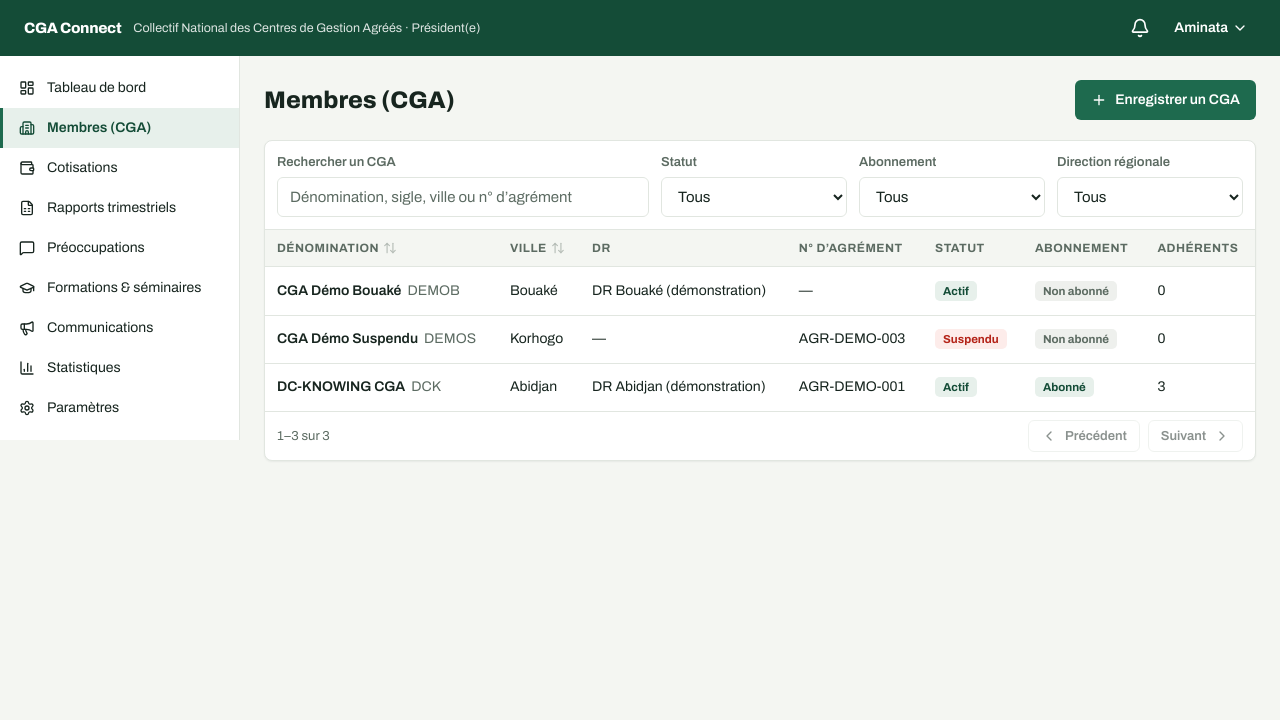
Test: Modale « Nouveau CGA » (F-ORG-02) › dénomination, ville et téléphone obligatoires ; focus sur le premier champ en erreur
expect the table named "Registre des CGA du réseau" is shown: met, box [265,230,1255,411]
Step 1. Click the button "Enregistrer un CGA" → (1166, 100), box [1075,80,1256,120]
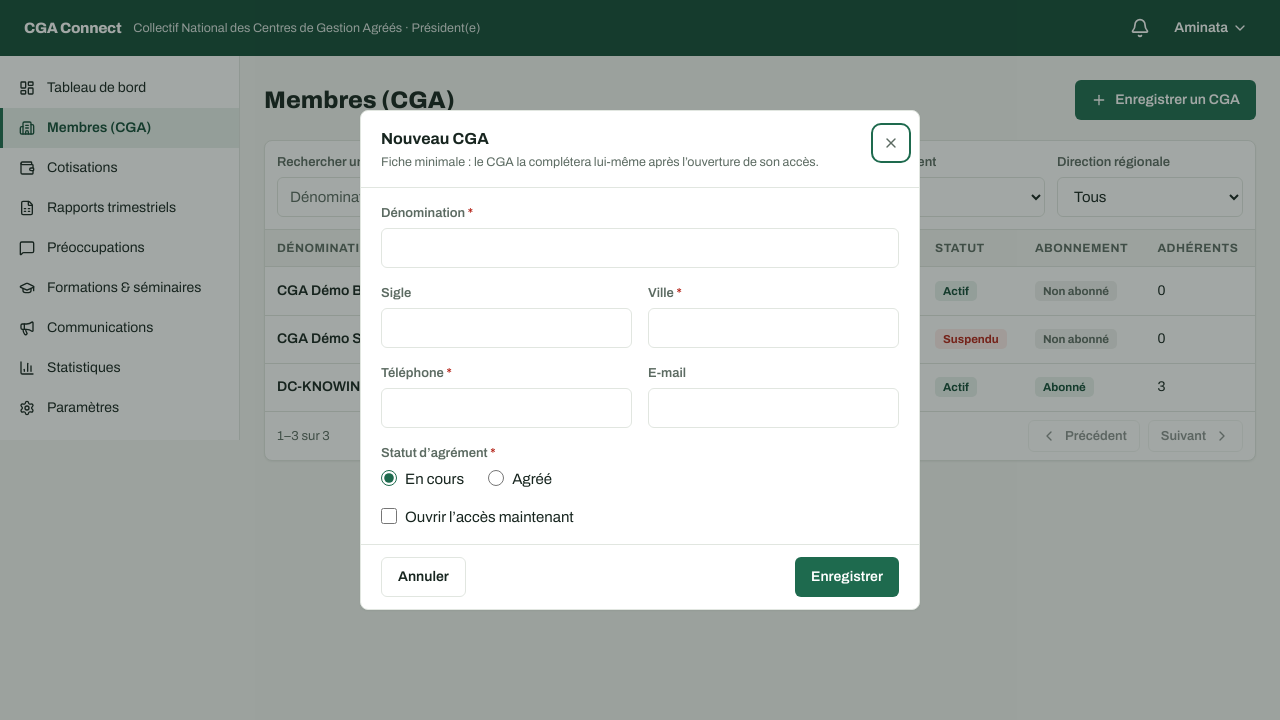
Step 2. Click the button "Enregistrer" → (847, 577), box [795,557,899,597]
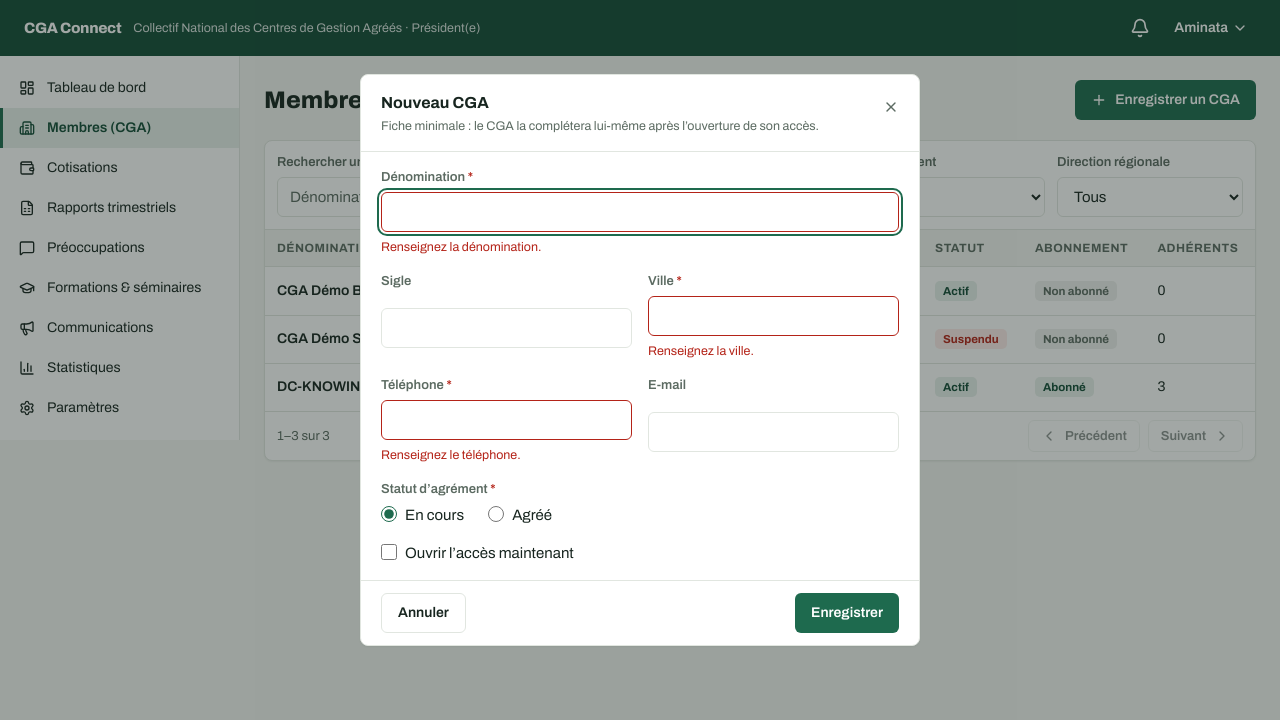
expect the text "Renseignez la dénomination." is shown: met, box [381,240,542,254]
expect the text "Renseignez la ville." is shown: met, box [648,344,754,358]
expect the text "Renseignez le téléphone." is shown: met, box [381,448,521,462]
